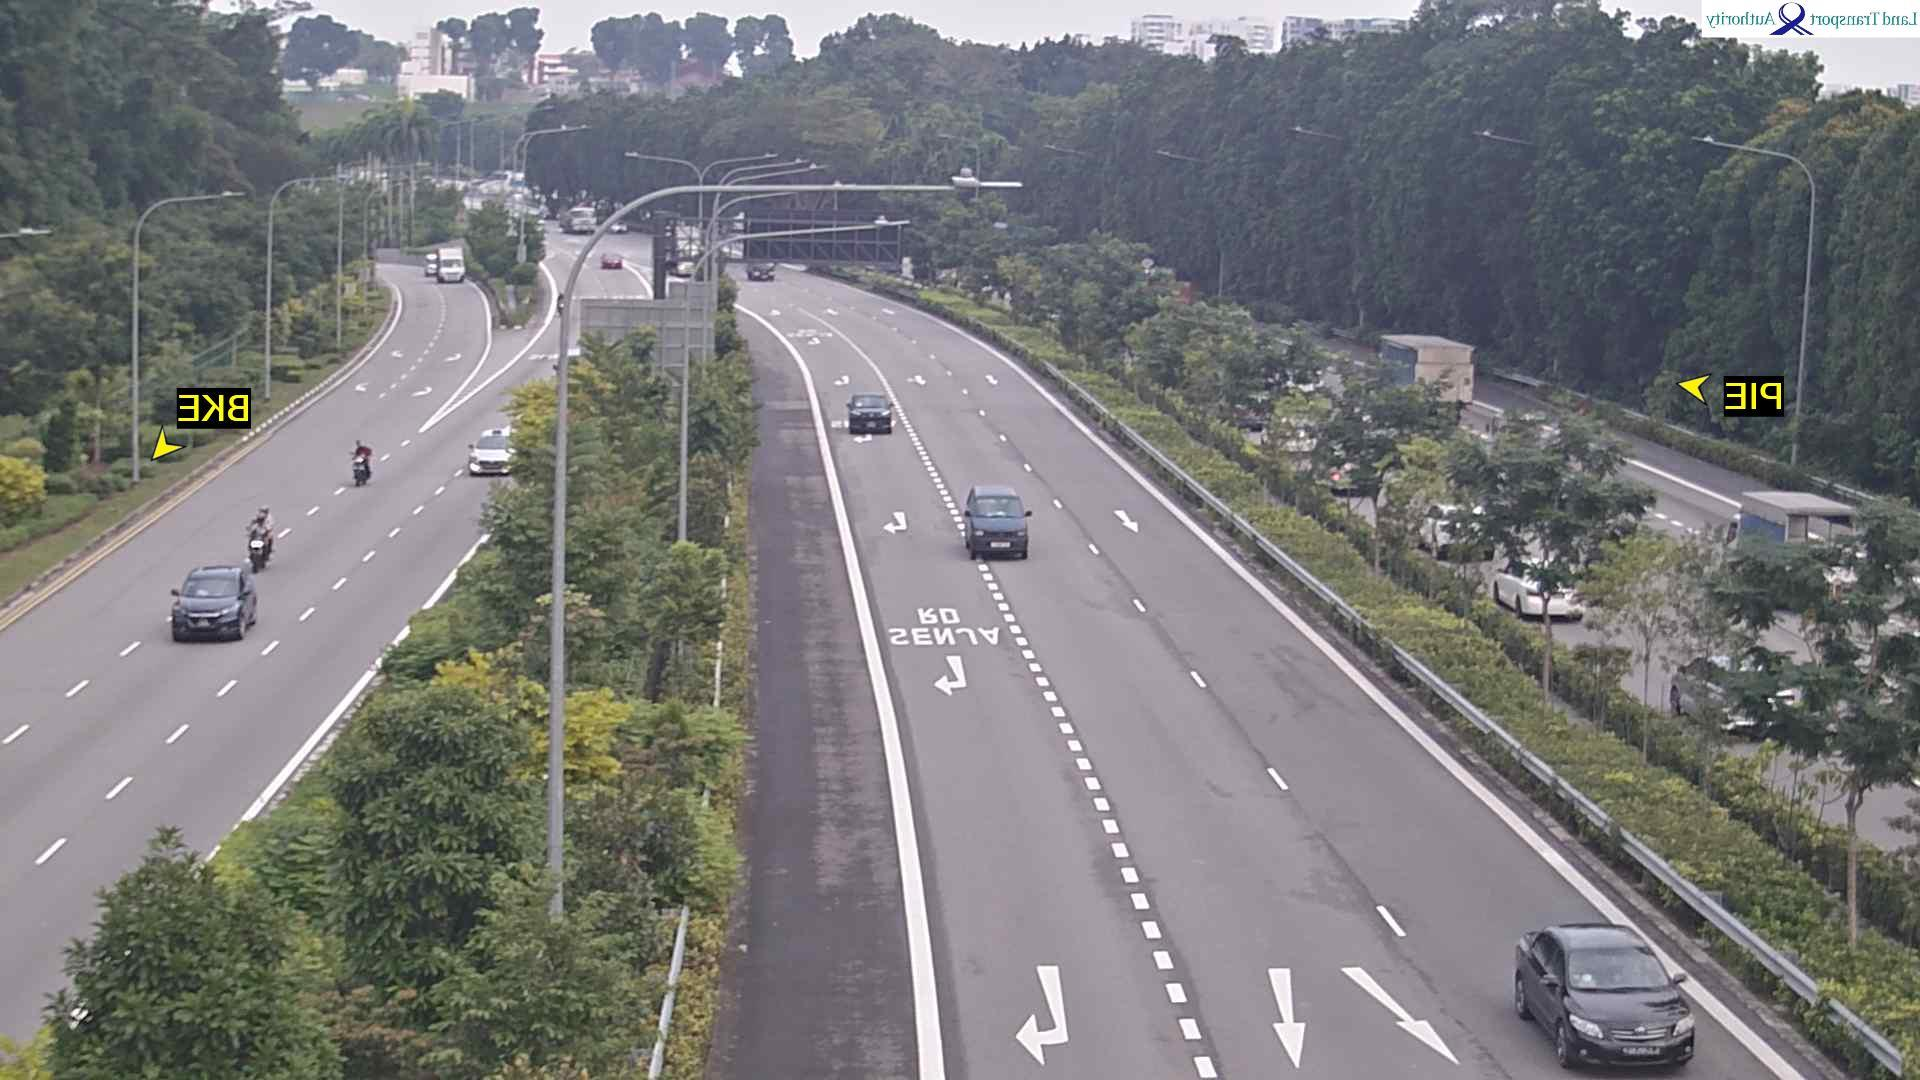incoming: (1543, 943, 1704, 1069), (158, 575, 251, 645), (955, 495, 1036, 562), (459, 436, 525, 479), (836, 396, 899, 434), (239, 533, 270, 570), (434, 261, 467, 286), (347, 454, 367, 491), (599, 252, 624, 274)
